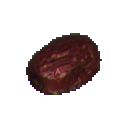gd: (21, 24, 113, 112)
